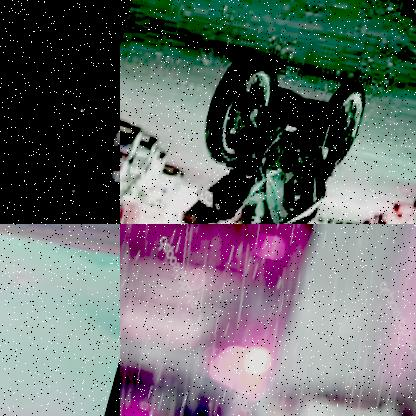bike: (168, 42, 375, 224), (36, 0, 120, 224)
car: (120, 224, 333, 416), (120, 117, 162, 217)
